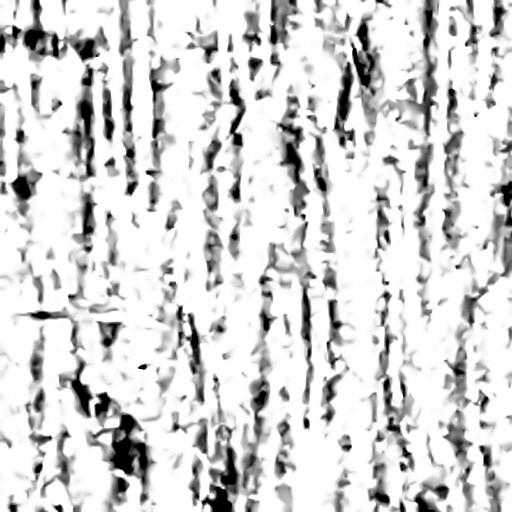egg: (114, 438, 129, 470)
